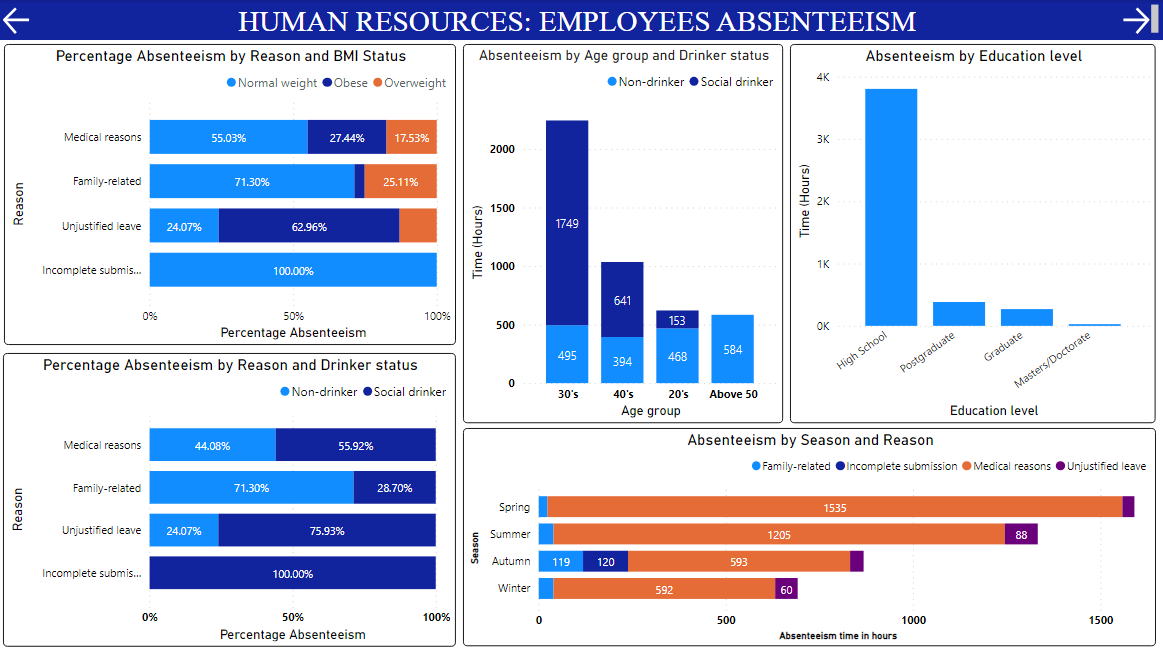

The dashboard page shown, as its layout file describes it:
{"tool":"powerbi","page":{"name":"Page 2","canvas":[1280,720],"ordinal":1},"visuals":[{"type":"columnChart","title":"Absenteeism by Age group and Drinker status","fields":{"Category":["Employee_info.Age group"],"Y":["Sum(Absenteeisms.Absenteeism time in hours)"],"Series":["Employee_info.Drinker status"]},"box":[510.2,48.4,351.9,416.8],"z":0},{"type":"hundredPercentStackedBarChart","title":"Percentage Absenteeism by Reason and BMI Status","fields":{"Category":["Absenteeisms.Absenteeism reason"],"Y":["Sum(Absenteeisms.Absenteeism time in hours)"],"Series":["Employee_info.BMI Status"]},"box":[5.5,48.4,497,331],"z":1000},{"type":"hundredPercentStackedBarChart","title":"Percentage Absenteeism by Reason and Drinker status","fields":{"Category":["Absenteeisms.Absenteeism reason"],"Y":["Sum(Absenteeisms.Absenteeism time in hours)"],"Series":["Employee_info.Drinker status"]},"box":[4.4,388.2,498.1,323.3],"z":2000},{"type":"textbox","box":[0,0,1280,44.1],"z":3000},{"type":"barChart","title":"Absenteeism by Season and Reason","fields":{"Category":["Absenteeisms.Season"],"Y":["Sum(Absenteeisms.Absenteeism time in hours)"],"Series":["Absenteeisms.Absenteeism reason"]},"box":[510.2,470.7,762.1,239.7],"z":4000},{"type":"columnChart","title":"Absenteeism by Education level","fields":{"Y":["Sum(Absenteeisms.Absenteeism time in hours)"],"Category":["Employee_info.Education level"]},"box":[869.8,48.4,402.5,416.8],"z":5000},{"type":"actionButton","box":[1230.1,3.5,40.7,39.5],"z":6000},{"type":"actionButton","box":[0,3.5,43,39.5],"z":7000}]}

Visuals, with their boxes in screenshot pixels (x1, y1, x2, y2), scaled from the page's 1280x720 canvas onto the 1163x654 screenshot:
"Absenteeism by Age group and Drinker status" columnChart: (464,44,783,423)
"Percentage Absenteeism by Reason and BMI Status" hundredPercentStackedBarChart: (5,44,457,345)
"Percentage Absenteeism by Reason and Drinker status" hundredPercentStackedBarChart: (4,353,457,646)
textbox: (0,0,1162,40)
"Absenteeism by Season and Reason" barChart: (464,428,1156,645)
"Absenteeism by Education level" columnChart: (790,44,1156,423)
actionButton: (1118,3,1155,39)
actionButton: (0,3,39,39)
